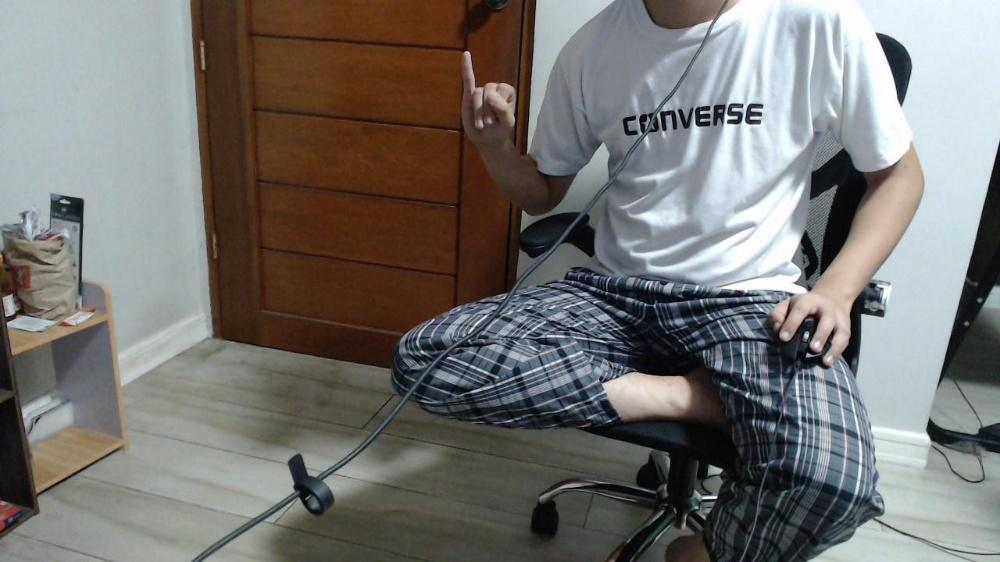i: (459, 49, 516, 142)
